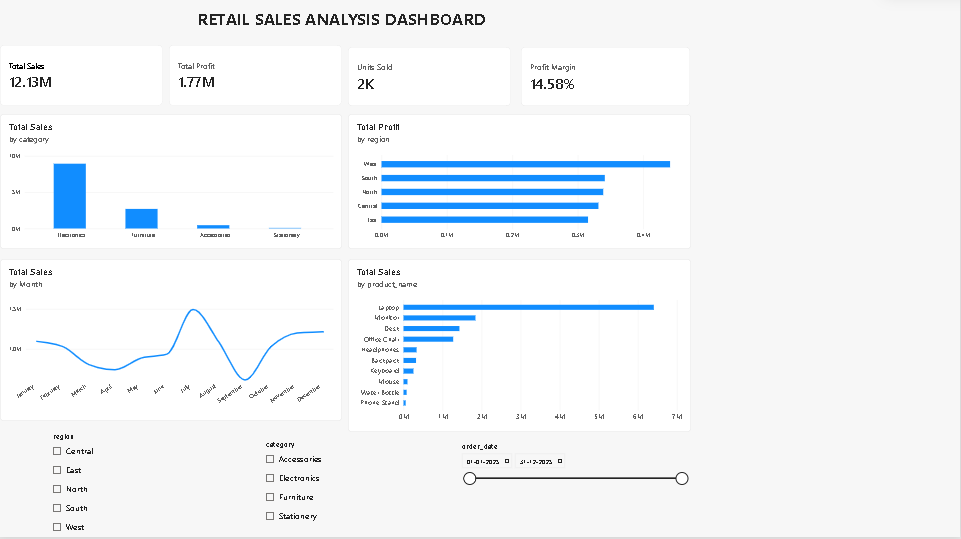

The page's visual inventory and layout, read from the dashboard file:
{"tool":"powerbi","page":{"name":"Page 1","canvas":[1920,1080],"ordinal":0},"visuals":[{"type":"cardVisual","fields":{"Data":["Raw_Data.Total Sales"]},"box":[0,96,325,121.7],"z":0},{"type":"cardVisual","fields":{"Data":["Raw_Data.Total Profit"]},"box":[338,96,345,121.7],"z":1000},{"type":"cardVisual","fields":{"Data":["Raw_Data.Units Sold"]},"box":[696,100,325,118.3],"z":2000},{"type":"cardVisual","fields":{"Data":["Raw_Data.Profit Margin"]},"box":[1042,100,338.3,118.3],"z":3000},{"type":"clusteredColumnChart","fields":{"Category":["Raw_Data.category"],"Y":["Raw_Data.Total Sales"]},"box":[0,234,684,270],"z":4000},{"type":"clusteredBarChart","fields":{"Category":["Raw_Data.region"],"Y":["Raw_Data.Total Profit"]},"box":[696,234,686,270],"z":5000},{"type":"lineChart","fields":{"Category":["Raw_Data.order_date.Variation.Date Hierarchy.Month"],"Y":["Raw_Data.Total Sales"]},"box":[0,524,684,324],"z":6000},{"type":"clusteredBarChart","fields":{"Category":["Raw_Data.product_name"],"Y":["Raw_Data.Total Sales"]},"box":[696,524,686,346],"z":6001},{"type":"slicer","fields":{"Values":["Raw_Data.region"]},"box":[98,870,330,210],"z":6002},{"type":"slicer","fields":{"Values":["Raw_Data.category"]},"box":[524,886,318,194],"z":6003},{"type":"slicer","fields":{"Values":["Raw_Data.order_date"]},"box":[916,890,464,190],"z":6004},{"type":"textbox","box":[325,20,716.7,63.3],"z":6005}]}

Visuals, with their boxes in screenshot pixels (x1, y1, x2, y2), scaled from the page's 1920x1080 canvas onto the 961x539 screenshot:
cardVisual - Raw_Data.Total Sales: locate(0, 48, 163, 109)
cardVisual - Raw_Data.Total Profit: locate(169, 48, 342, 109)
cardVisual - Raw_Data.Units Sold: locate(348, 50, 511, 109)
cardVisual - Raw_Data.Profit Margin: locate(522, 50, 691, 109)
clusteredColumnChart - Raw_Data.category x Raw_Data.Total Sales: locate(0, 117, 342, 252)
clusteredBarChart - Raw_Data.region x Raw_Data.Total Profit: locate(348, 117, 692, 252)
lineChart - Raw_Data.order_date.Variation.Date Hierarchy.Month x Raw_Data.Total Sales: locate(0, 262, 342, 423)
clusteredBarChart - Raw_Data.product_name x Raw_Data.Total Sales: locate(348, 262, 692, 434)
slicer - Raw_Data.region: locate(49, 434, 214, 538)
slicer - Raw_Data.category: locate(262, 442, 421, 538)
slicer - Raw_Data.order_date: locate(458, 444, 691, 538)
textbox: locate(163, 10, 521, 42)
